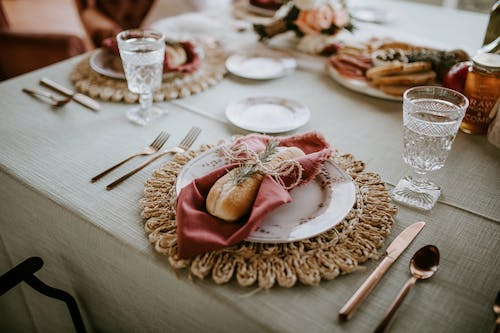knife: (337, 220, 426, 324), (39, 77, 100, 111)
